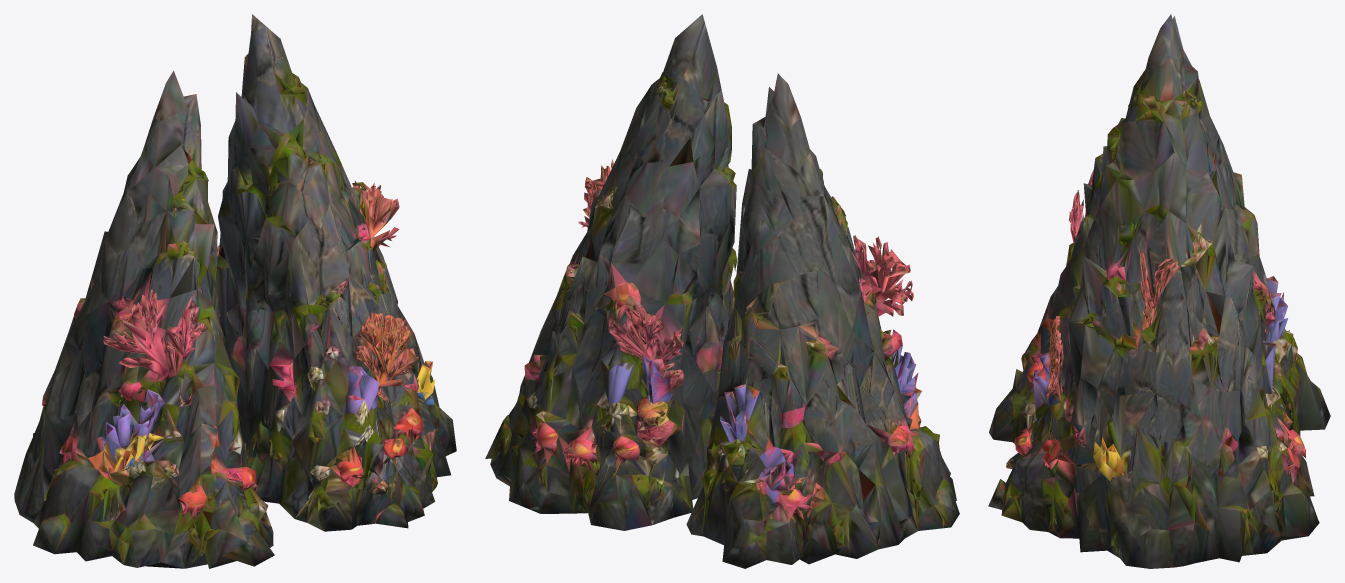
Rendered from twin_sea_pinnacles.glb.
The picture shows the model from 3 angles, left to right: view 1: azimuth 30°, elevation 25°; view 2: azimuth 150°, elevation 25°; view 3: azimuth 270°, elevation 25°; orthographic projection.
Visible parts, largest first — view 1: Model; view 2: Model; view 3: Model.
Part boxes in pixels (<box>): Model: <box>14,14,456,568</box>; Model: <box>485,14,959,568</box>; Model: <box>988,14,1330,568</box>.
Bounding box in the file's own units: 40.11 × 42 × 28.05.
Materials: 1 (1 with a texture image).
